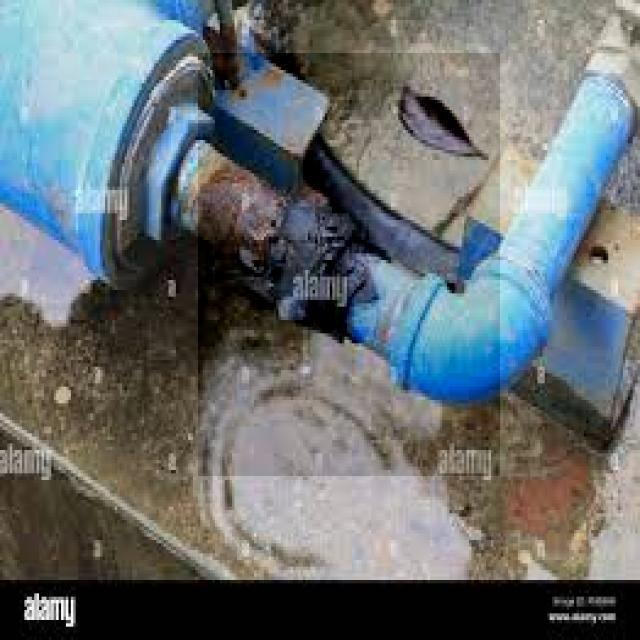corrosion: (222, 157, 428, 454)
